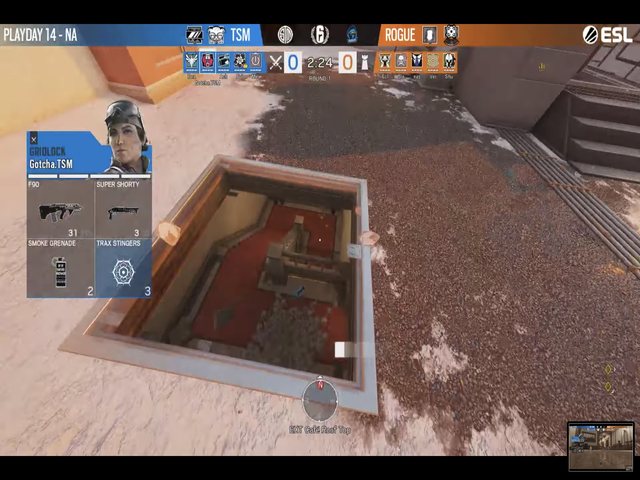0_blue: (282, 49, 305, 75)
